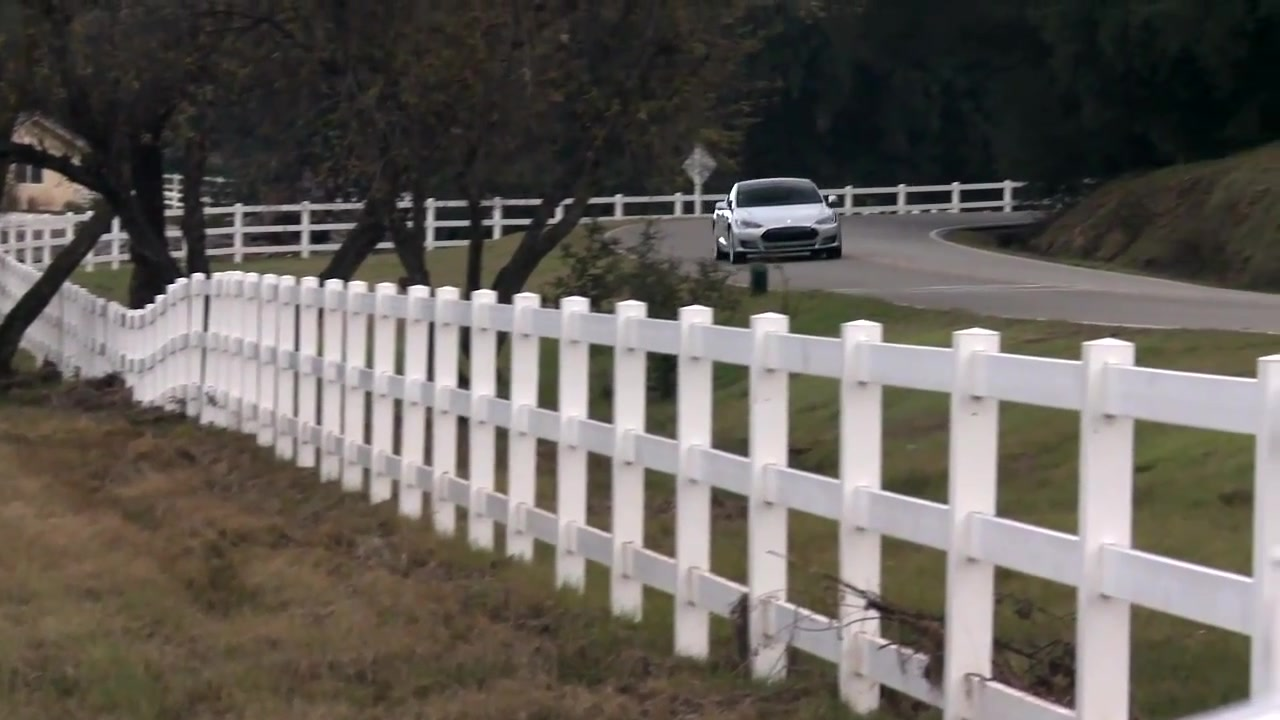car: (709, 177, 848, 268)
